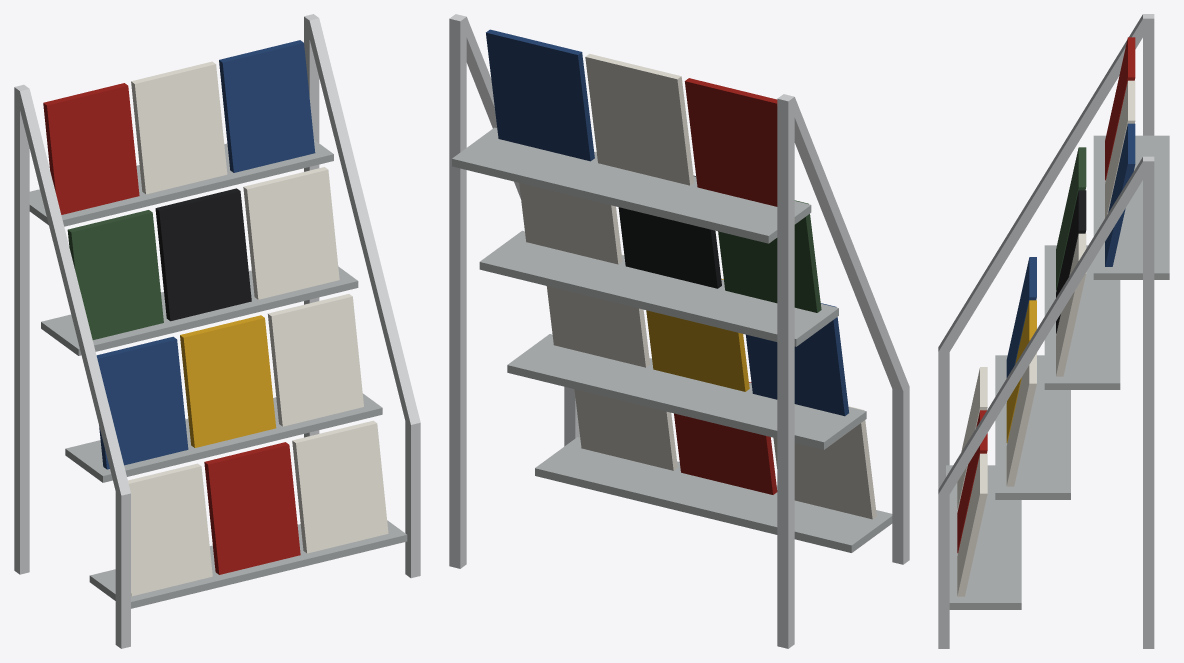
The model's file is news_rack.glb.
The picture shows the model from 3 angles, left to right: view 1: azimuth 30°, elevation 25°; view 2: azimuth 150°, elevation 25°; view 3: azimuth 270°, elevation 25°; orthographic projection. The views are drawn at different scales.
Visible parts, largest first — view 1: news_rack; view 2: news_rack; view 3: news_rack.
Part boxes in pixels (x1,y1,x2,y2): news_rack: (14,14,420,648); news_rack: (449,14,909,648); news_rack: (938,14,1169,648).
Size of the model in its own units: 0.92 by 1.42 by 0.61.
Materials: 1 (1 with a texture image).
